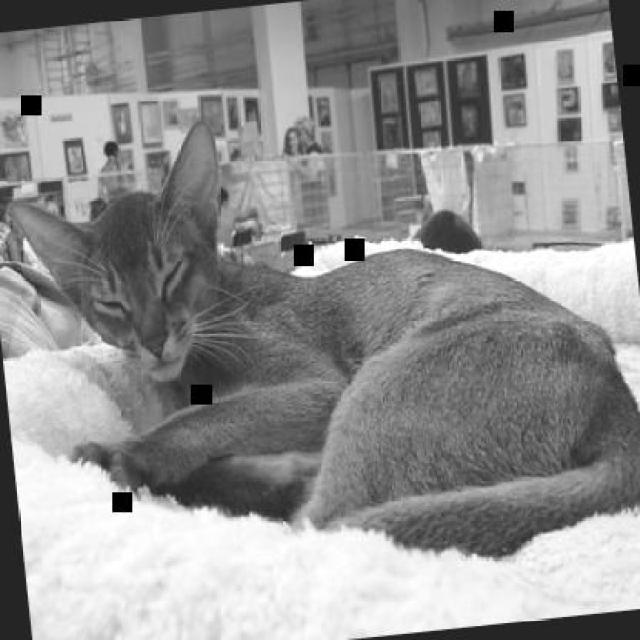cat: (3, 74, 639, 609)
